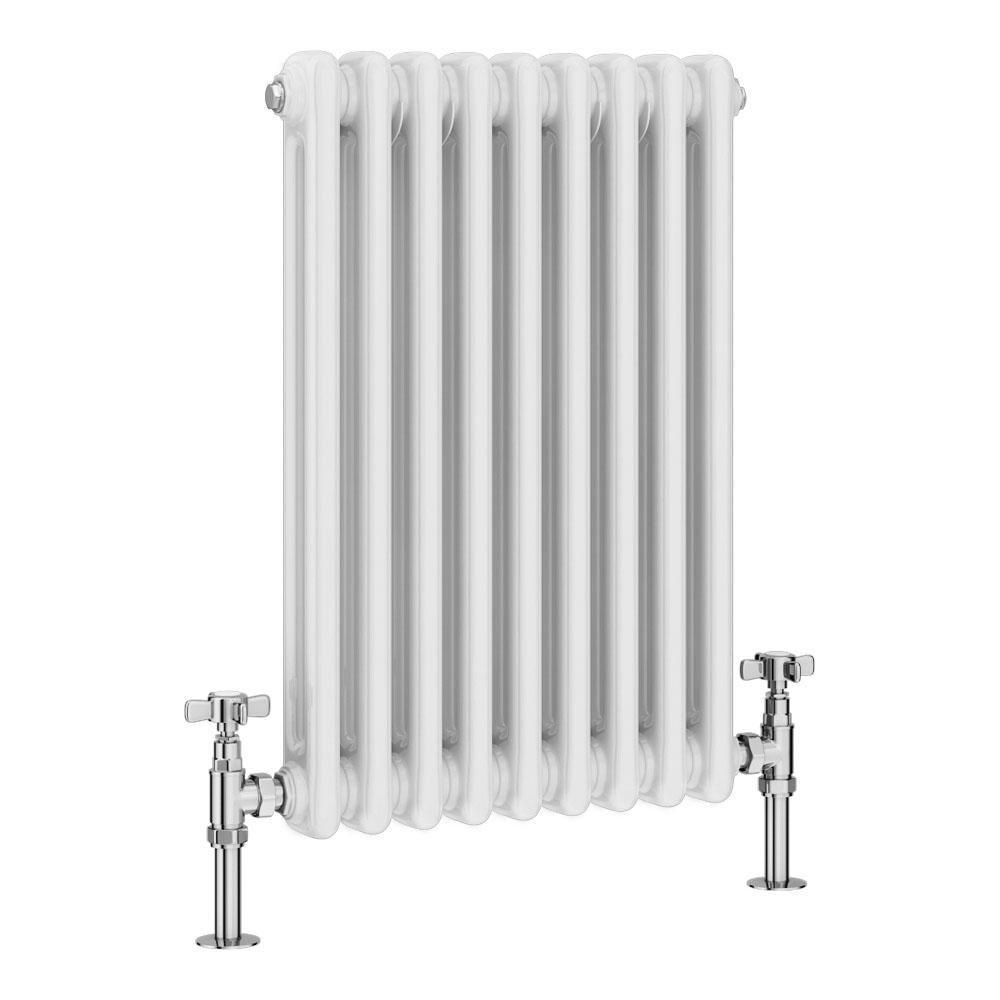Radiator: (184, 33, 823, 846)
